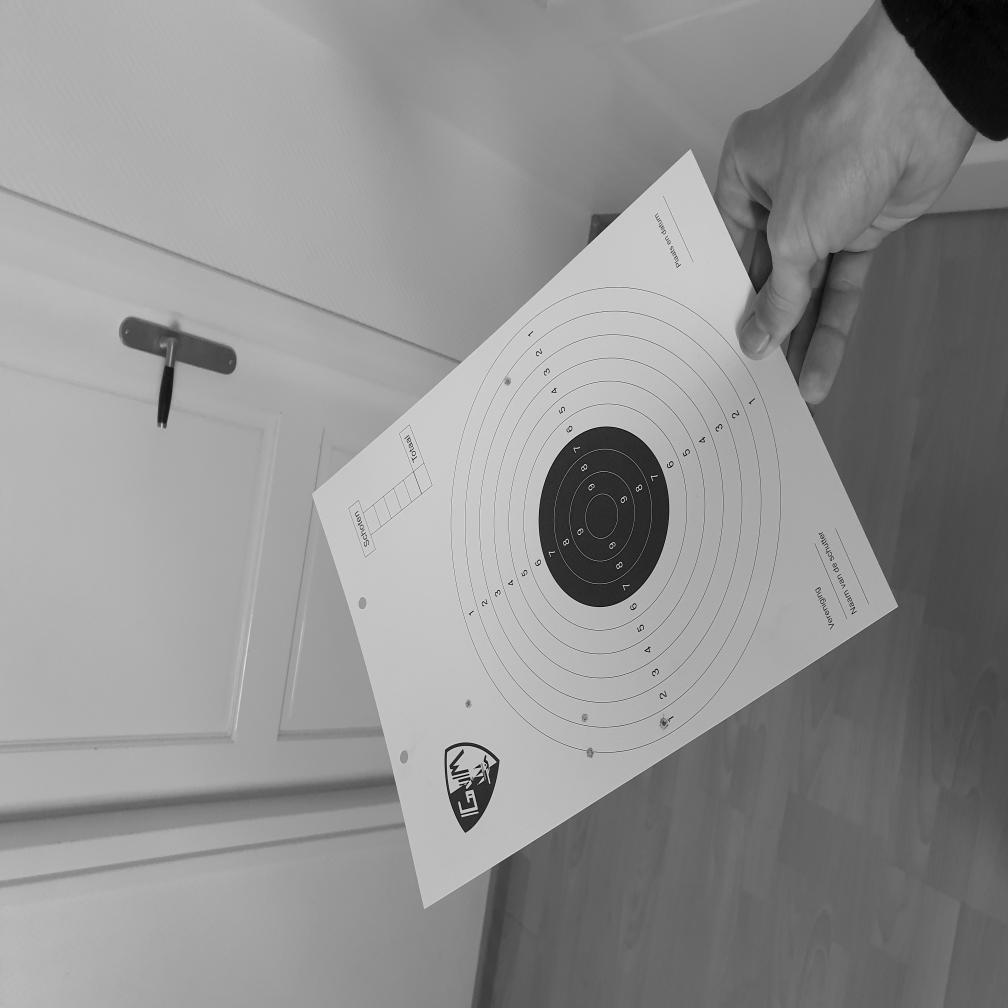0: (465, 698, 472, 708)
1: (658, 714, 670, 732), (585, 746, 595, 760)
2: (503, 374, 512, 386), (582, 712, 590, 723)
Target: (448, 286, 784, 750)
black_contour: (538, 425, 670, 606)
